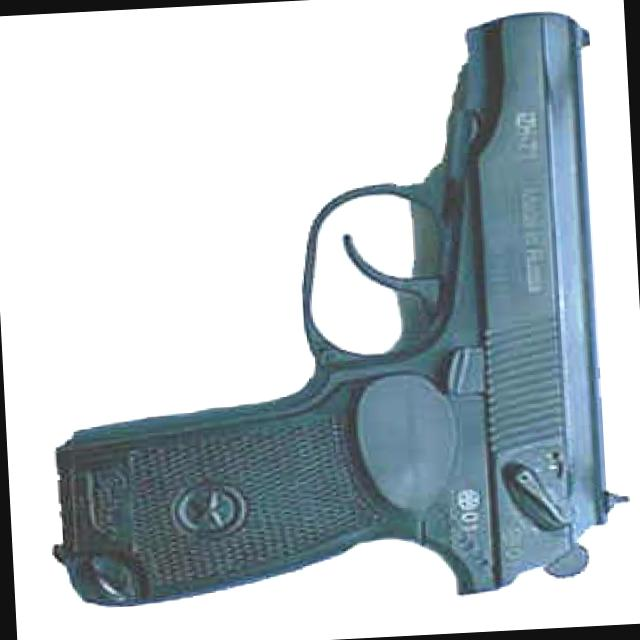handgun: (28, 9, 636, 618)
